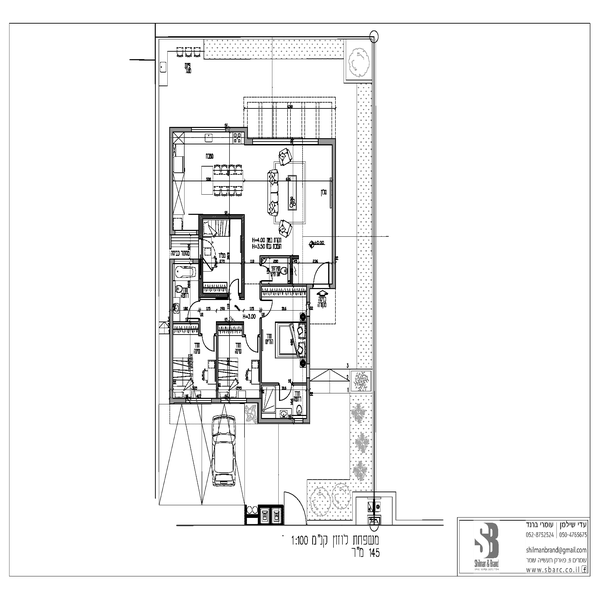door: (182, 293, 205, 321), (256, 294, 278, 323), (201, 323, 219, 355), (255, 260, 278, 282), (311, 258, 332, 282), (247, 334, 256, 358)
wall: (328, 139, 338, 288), (166, 124, 179, 234), (247, 394, 291, 426), (237, 212, 252, 294), (302, 381, 317, 426), (195, 212, 247, 224), (227, 123, 254, 146), (200, 287, 232, 304), (197, 258, 207, 303)
